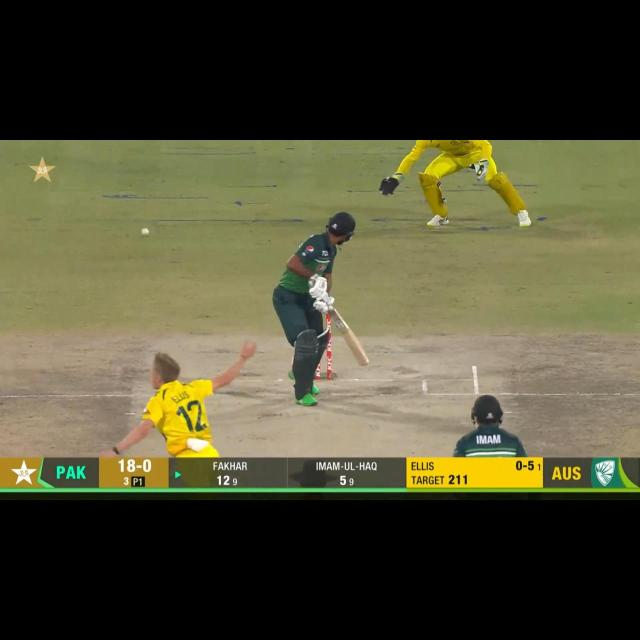bat: (328, 309, 372, 366)
toe: (356, 350, 370, 371)
